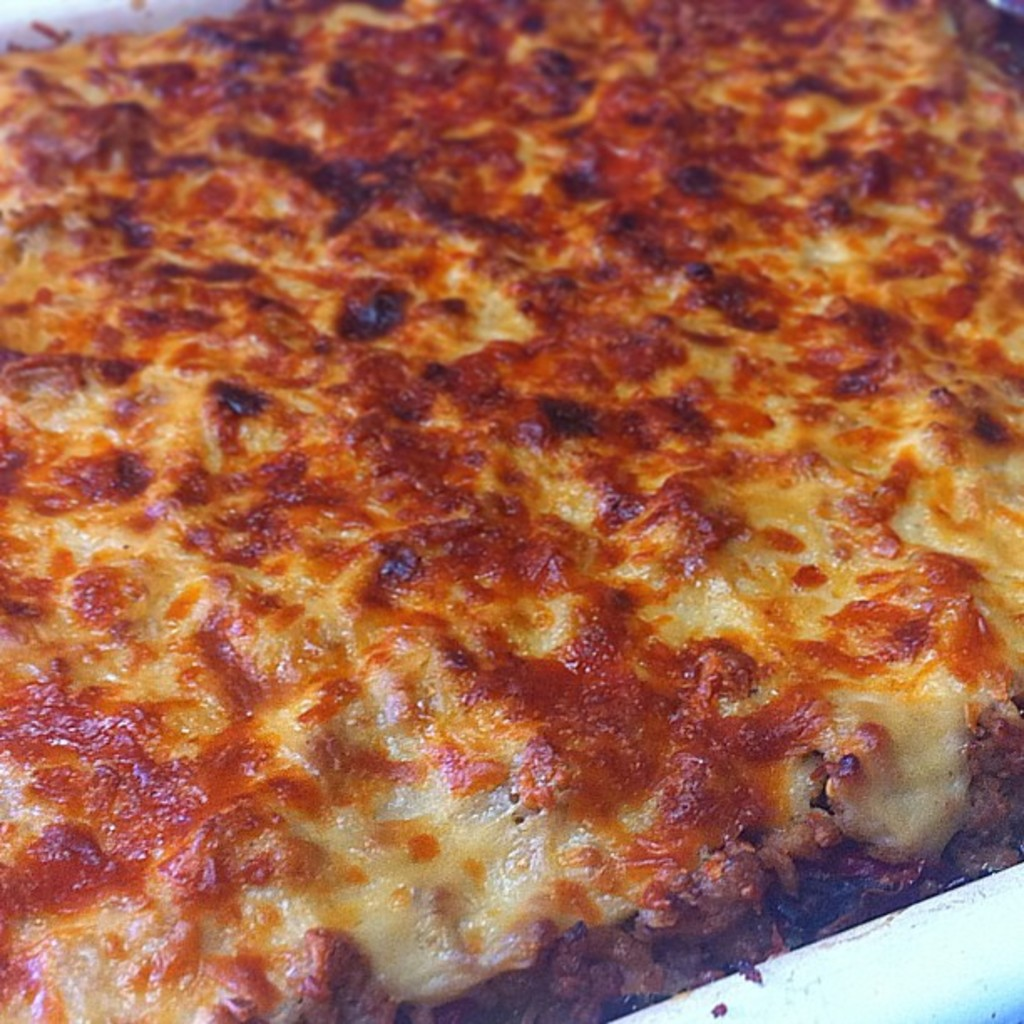Pizza: (0, 3, 1022, 1022)
